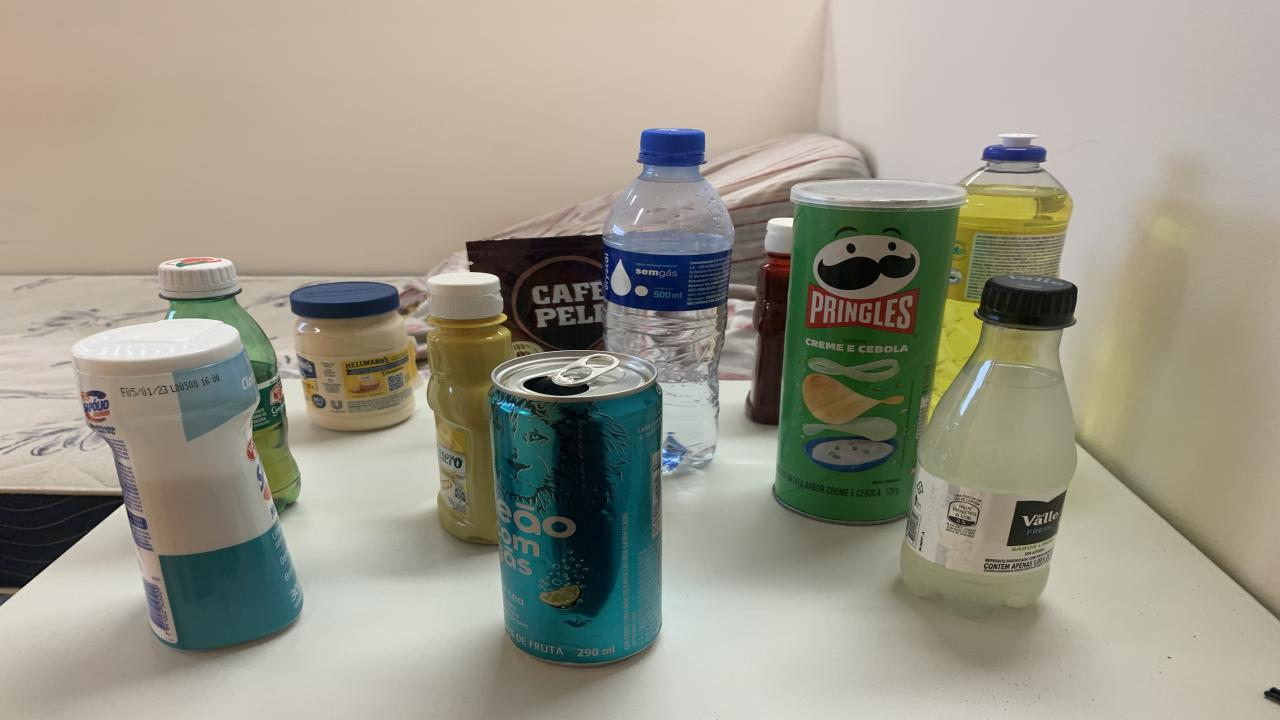Cleaner-Cleanup_Items: (72, 319, 302, 651)
Coffee-Pantry_Items: (468, 234, 605, 354)
Detergent-Cleanup_Items: (930, 133, 1072, 409)
Guarana-Drinks: (158, 257, 300, 510)
Ketchup-Pantry_Items: (745, 218, 792, 426)
Mayonnaise-Pantry_Items: (290, 281, 420, 431)
Mustard-Pantry_Items: (428, 272, 515, 544)
Pringles-Snacks: (772, 178, 968, 525)
Soda-Drinks: (900, 276, 1078, 617)
Tea-Drinks: (490, 384, 660, 666)
Water_Bottle-Drinks: (602, 129, 735, 471)
